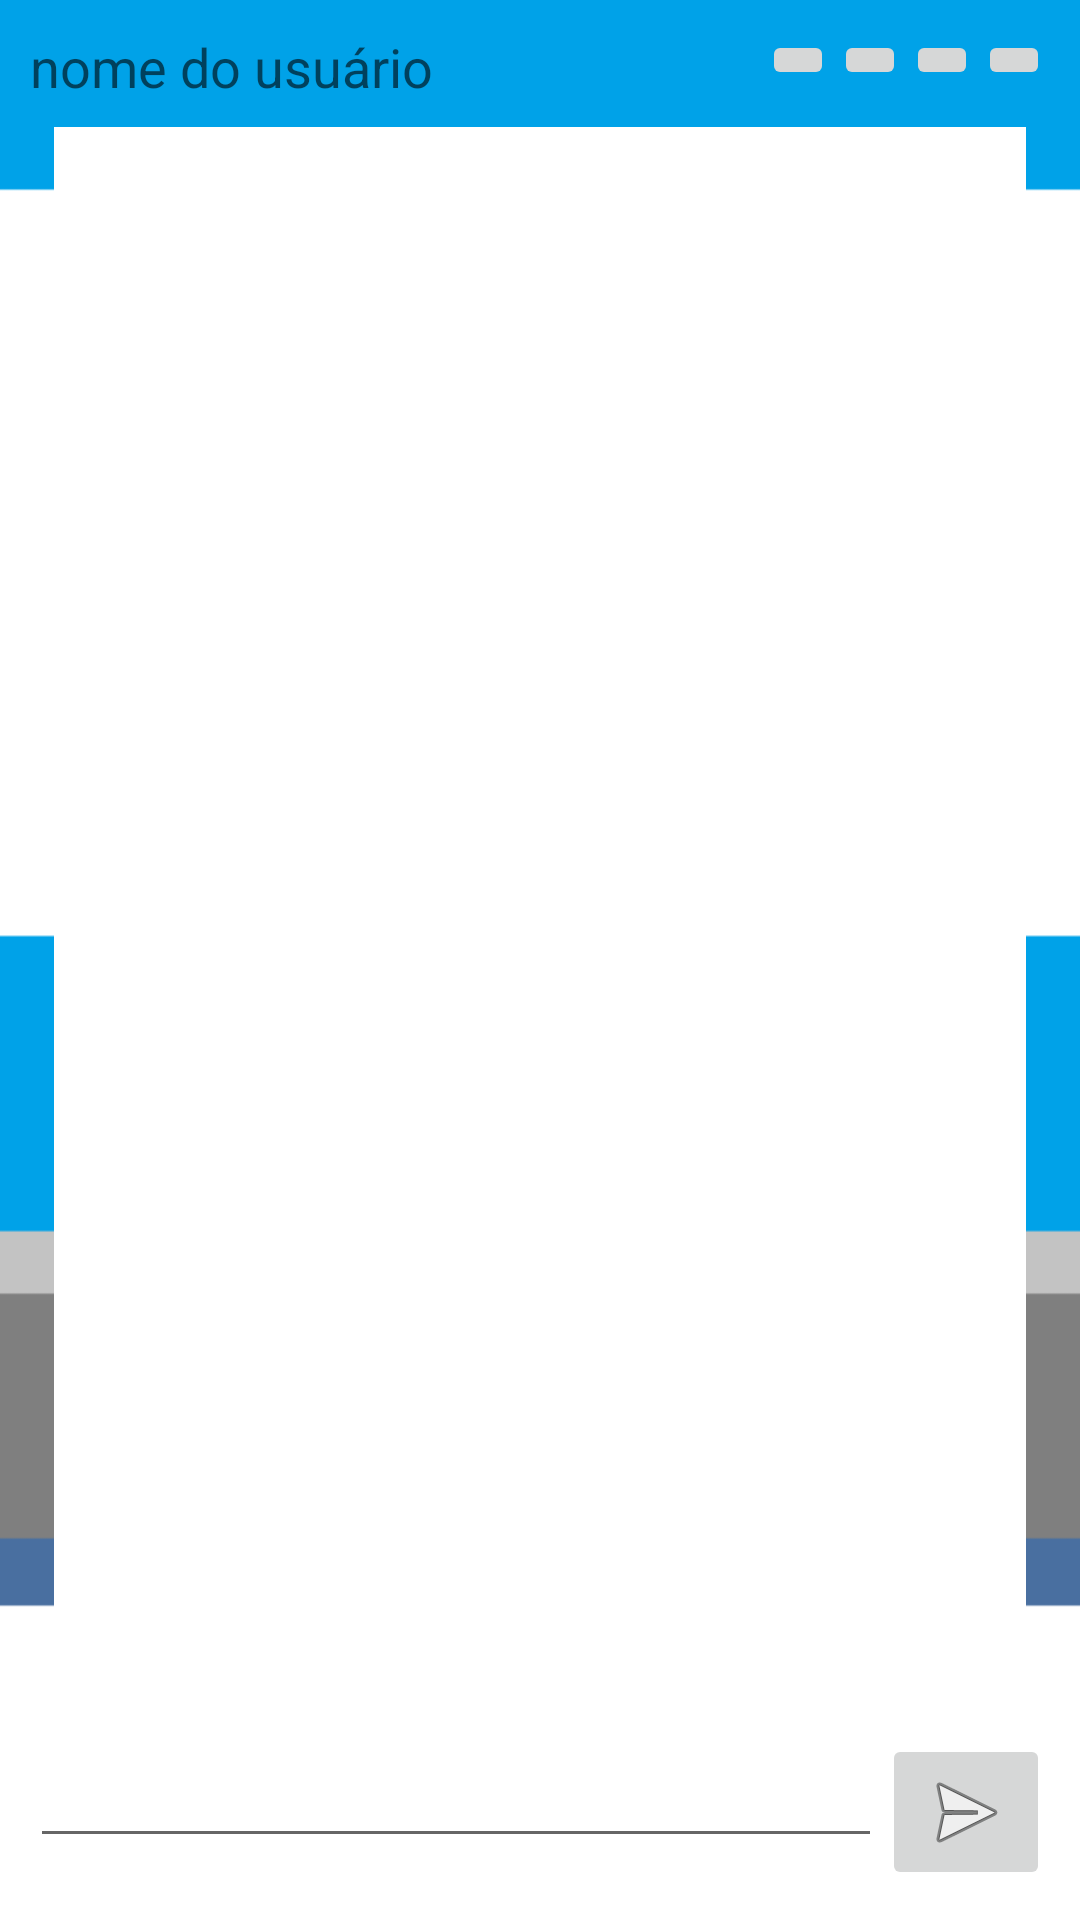

Where icons sit on this 1080px x 1920px app screen, as (x1, y1, x2, y2):
send: (894, 1752, 1038, 1872)
